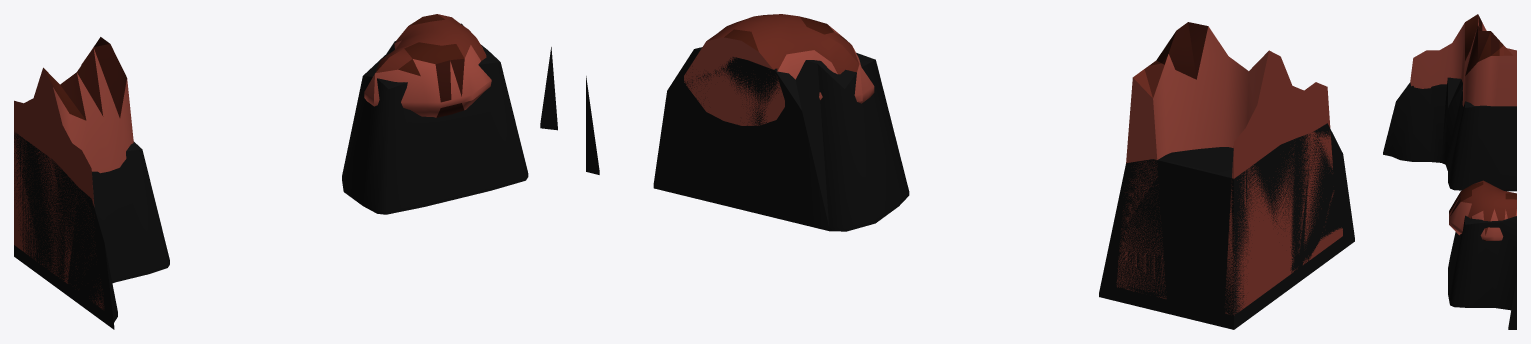
Rendered from deli_boss_47.glb.
The picture shows the model from 3 angles, left to right: view 1: azimuth 30°, elevation 25°; view 2: azimuth 150°, elevation 25°; view 3: azimuth 270°, elevation 25°; orthographic projection. The views are drawn at different scales.
Parts seen in each view (by area): view 1: deli_boss_47_core, deli_boss_47_frame, deli_boss_47_claw; view 2: deli_boss_47_core, deli_boss_47_frame, deli_boss_47_claw; view 3: deli_boss_47_core, deli_boss_47_frame, deli_boss_47_claw.
Boxes of the visible parts, bbox=[...] form: deli_boss_47_core: bbox=[14, 23, 557, 329]; deli_boss_47_frame: bbox=[14, 37, 133, 309]; deli_boss_47_claw: bbox=[364, 14, 491, 117]; deli_boss_47_core: bbox=[586, 47, 1354, 329]; deli_boss_47_frame: bbox=[1116, 22, 1342, 315]; deli_boss_47_claw: bbox=[684, 14, 874, 125]; deli_boss_47_core: bbox=[1383, 77, 1516, 329]; deli_boss_47_frame: bbox=[1410, 14, 1516, 106]; deli_boss_47_claw: bbox=[1449, 180, 1516, 240].
Size of the model in its own units: 24 by 9.32 by 7.75.
